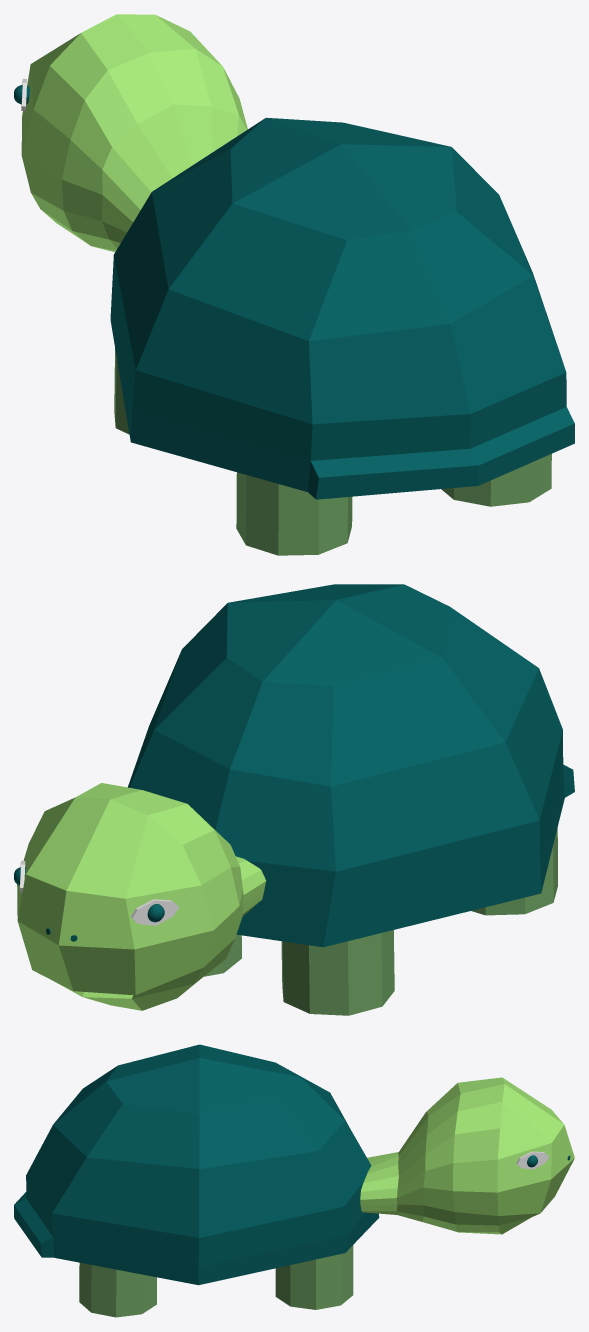
Rendered from Turtle.fbx.
The picture shows the model from 3 angles, top to bottom: view 1: azimuth 30°, elevation 25°; view 2: azimuth 150°, elevation 25°; view 3: azimuth 270°, elevation 25°; orthographic projection. The views are drawn at different scales.
Parts seen in each view (by area): view 1: Carapaça, Cabeça, Cylinder; view 2: Carapaça, Cabeça, Cylinder, Olhos; view 3: Carapaça, Cabeça, Cylinder.
Part boxes in pixels (x1,y1,x2,y2): Carapaça: (110,117,574,499); Cabeça: (21,14,247,251); Cylinder: (114,348,551,555); Carapaça: (128,584,574,947); Cabeça: (17,783,265,1010); Cylinder: (204,828,557,1015); Olhos: (19,860,179,925); Carapaça: (14,1044,379,1285); Cabeça: (360,1077,574,1234); Cylinder: (79,1245,353,1317).
Size of the model in its own units: 373 by 280 by 669.
